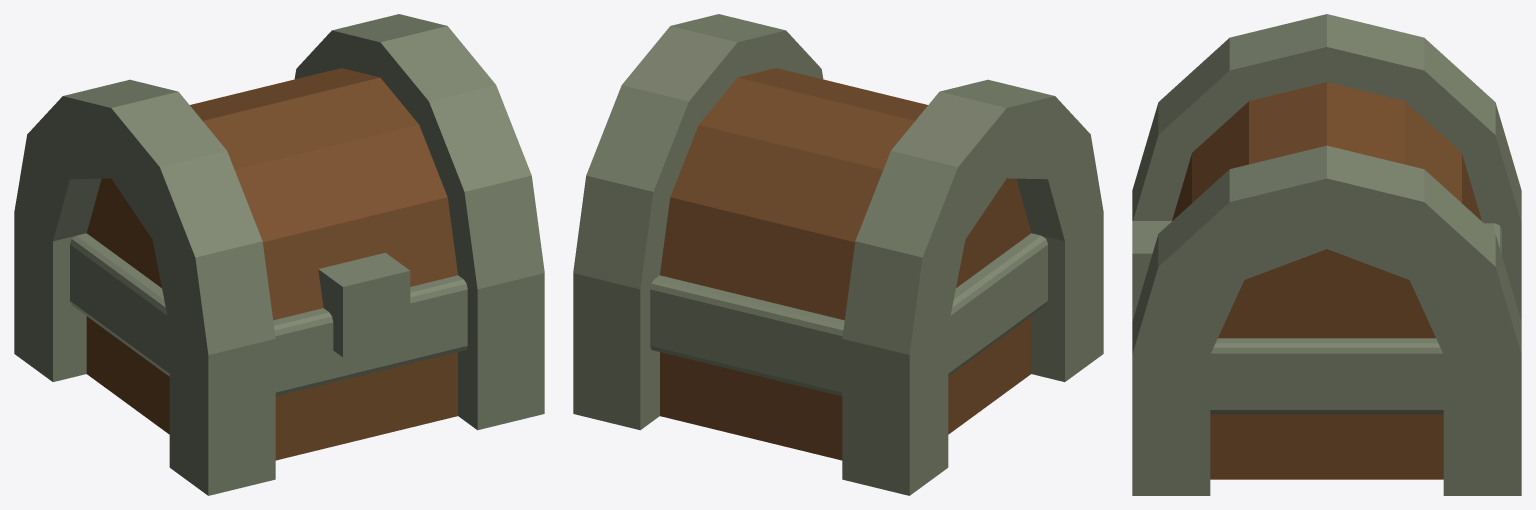
The model's file is kenney_mini-dungeon__chest__meadow.fbx.
3 renders of one model, left to right at view 1: azimuth 30°, elevation 25°; view 2: azimuth 150°, elevation 25°; view 3: azimuth 270°, elevation 25°, orthographic.
Parts seen in each view (by area): view 1: kenney_mini-dungeon__chest__meadow_stone, kenney_mini-dungeon__chest__meadow_wood; view 2: kenney_mini-dungeon__chest__meadow_stone, kenney_mini-dungeon__chest__meadow_wood; view 3: kenney_mini-dungeon__chest__meadow_stone, kenney_mini-dungeon__chest__meadow_wood.
Boxes of the visible parts, x1,y1,x2,y2 form: kenney_mini-dungeon__chest__meadow_stone: (14,14,544,495); kenney_mini-dungeon__chest__meadow_wood: (86,68,457,460); kenney_mini-dungeon__chest__meadow_stone: (573,14,1103,495); kenney_mini-dungeon__chest__meadow_wood: (660,68,1031,460); kenney_mini-dungeon__chest__meadow_stone: (1132,14,1521,495); kenney_mini-dungeon__chest__meadow_wood: (1172,82,1481,479).
Size of the model in its own units: 1.79 by 1.61 by 1.79.
Materials: 2 (2 with a texture image).
